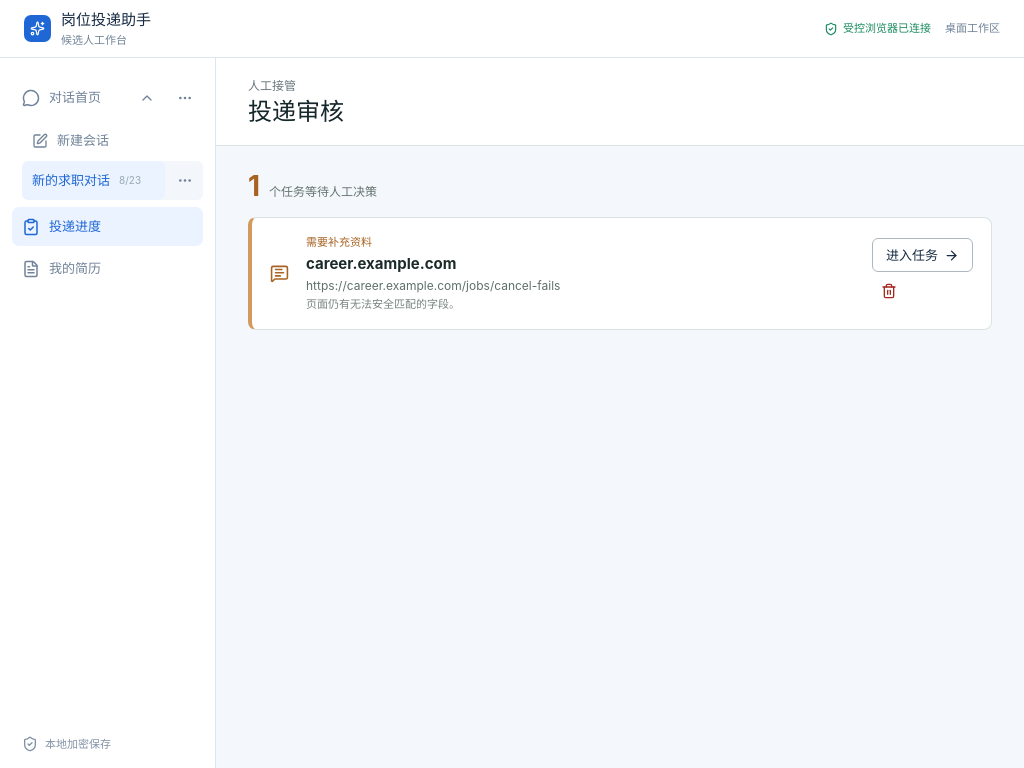
Test case: ProfileApplicationWorkspace › keeps the task visible when cancellation fails
Click the button named "删除任务：career.example.com".
click(889, 292)  # box [872,274,906,308]
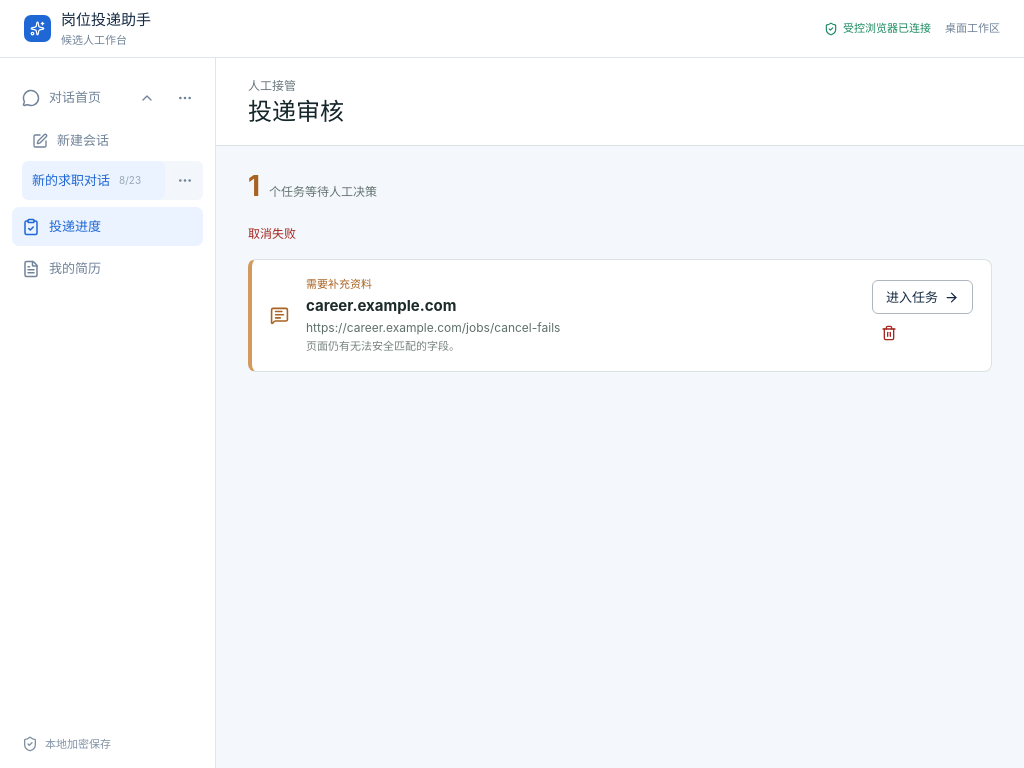
Check: the message reads "取消失败", box [248,226,296,241]
